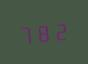eight: (36, 20, 52, 43)
seven: (18, 22, 34, 44)
two: (53, 19, 69, 41)
